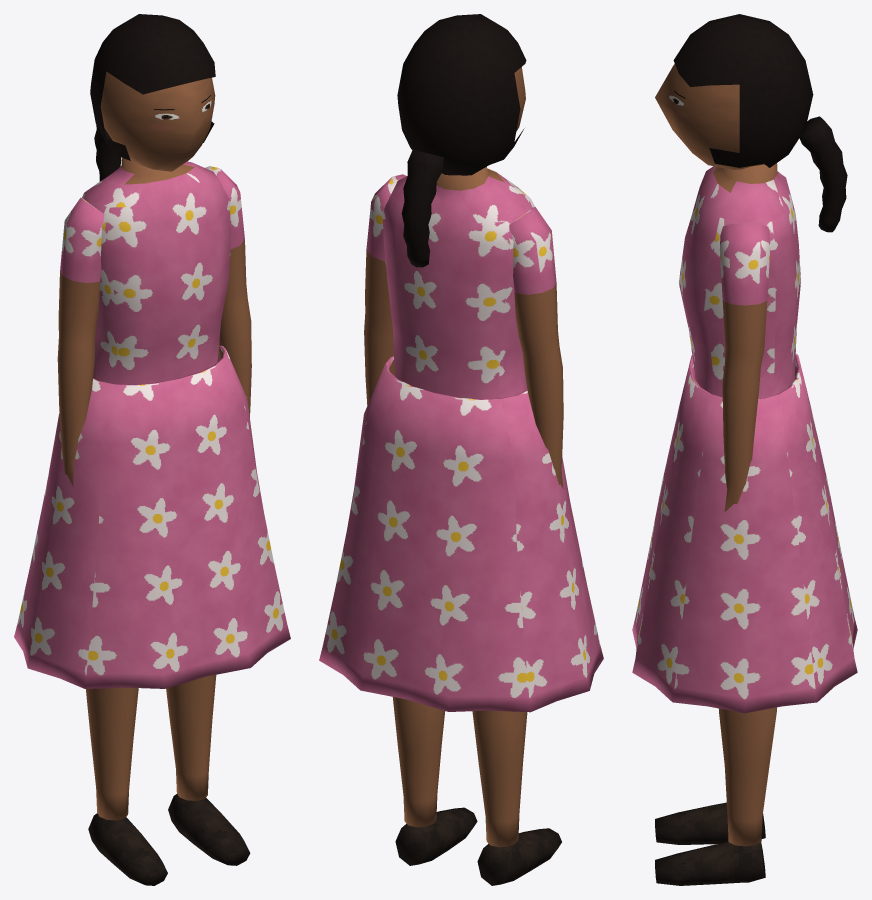
Rendered from persona_nina_a.obj.
3 views of the same model, side by side, from view 1: azimuth 30°, elevation 25°; view 2: azimuth 150°, elevation 25°; view 3: azimuth 270°, elevation 25° (orthographic). The views are drawn at different scales.
Parts seen in each view (by area): view 1: Falda, Torso, BrazoDer, Pelo, PiernaDer, Cabeza, PiernaIzq, BrazoIzq; view 2: Falda, Torso, Pelo, BrazoDer, PiernaDer, PiernaIzq, BrazoIzq; view 3: Falda, Torso, Pelo, BrazoIzq, PiernaIzq, Cabeza, PiernaDer.
Boxes of the visible parts, x1,y1,x2,y2 form: Falda: [14, 345, 290, 688]; Torso: [82, 158, 230, 384]; BrazoDer: [57, 197, 104, 485]; Pelo: [90, 14, 215, 181]; PiernaDer: [86, 687, 167, 885]; Cabeza: [100, 71, 215, 171]; PiernaIzq: [166, 675, 250, 865]; BrazoIzq: [205, 166, 251, 417]; Falda: [319, 356, 603, 712]; Torso: [382, 166, 534, 399]; Pelo: [397, 14, 526, 267]; BrazoDer: [509, 207, 563, 488]; PiernaDer: [472, 710, 561, 885]; PiernaIzq: [392, 697, 477, 865]; BrazoIzq: [364, 174, 406, 405]; Falda: [632, 352, 857, 713]; Torso: [678, 163, 800, 398]; Pelo: [673, 14, 847, 232]; BrazoIzq: [719, 223, 770, 511]; PiernaIzq: [655, 707, 776, 885]; Cabeza: [655, 64, 764, 169]; PiernaDer: [655, 802, 765, 844].
Bounding box in the file's own units: 0.3628 × 1.15 × 0.2787.
Materials: 5 (5 with a texture image).
